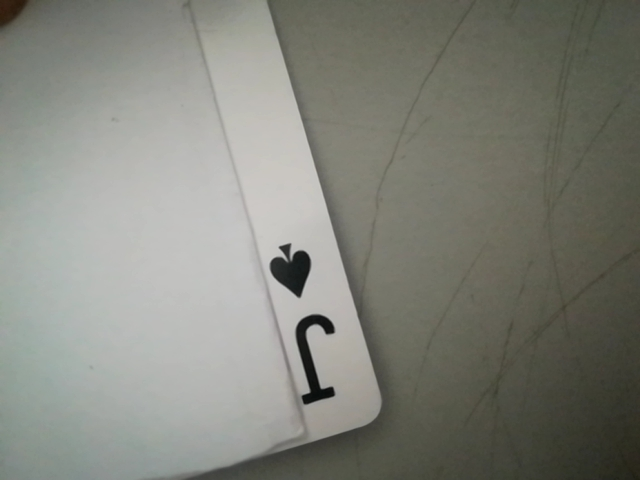ht j: (258, 229, 367, 426)
